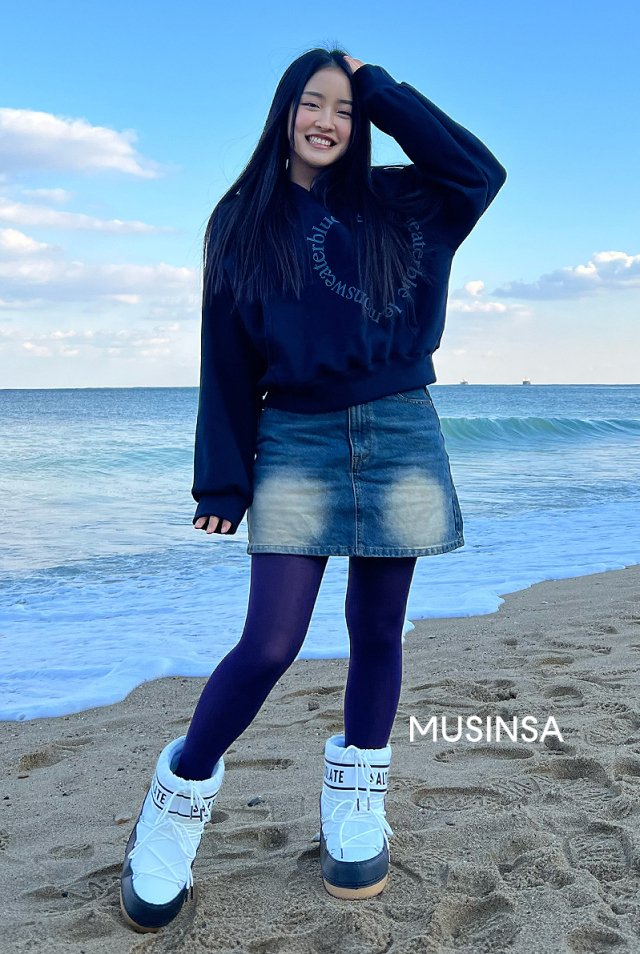Boots: (94, 738, 403, 916)
Skirt: (244, 391, 487, 573)
Top: (160, 149, 516, 402)
